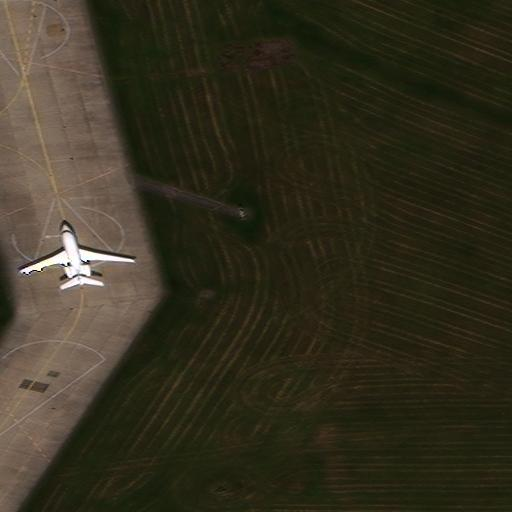Medium Civil Transport: (20, 218, 132, 287)
